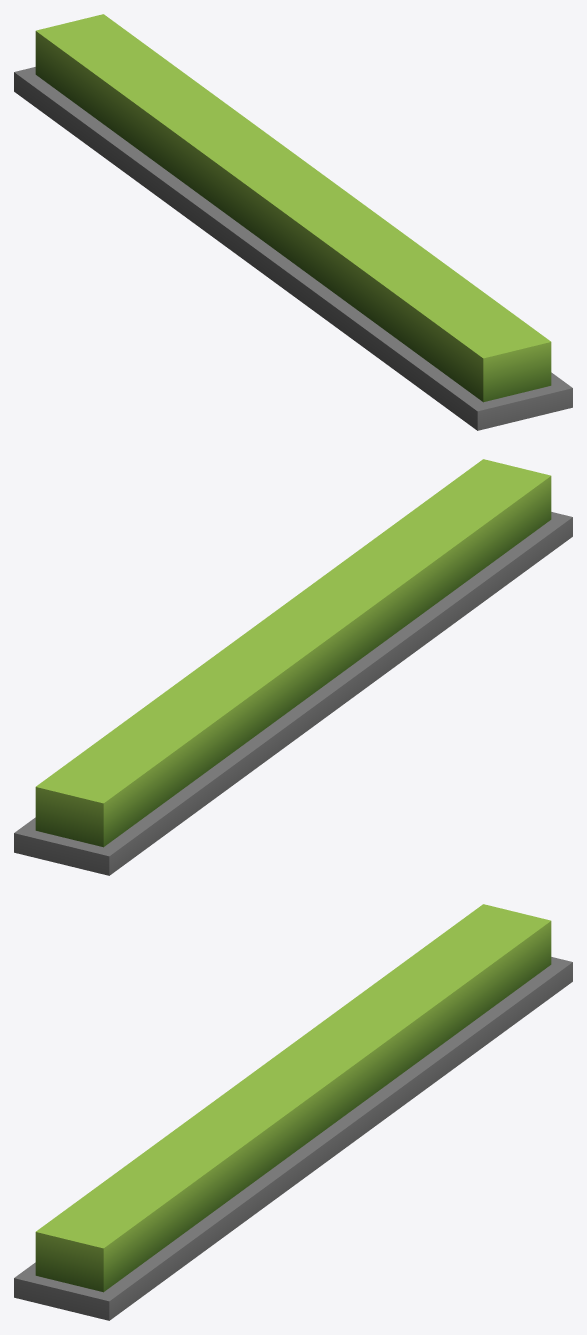
The model's file is grass 10.fbx.
3 renders of one model, top to bottom at view 1: azimuth 30°, elevation 25°; view 2: azimuth 150°, elevation 25°; view 3: azimuth 330°, elevation 25°, orthographic.
Visible parts, largest first — view 1: grass_10; view 2: grass_10; view 3: grass_10.
Boxes of the visible parts, bbox=[...] form: grass_10: bbox=[14, 14, 572, 430]; grass_10: bbox=[14, 459, 572, 875]; grass_10: bbox=[14, 904, 572, 1320].
Bounding box in the file's own units: 151 × 95.64 × 1269.
Materials: 1 (1 with a texture image).
